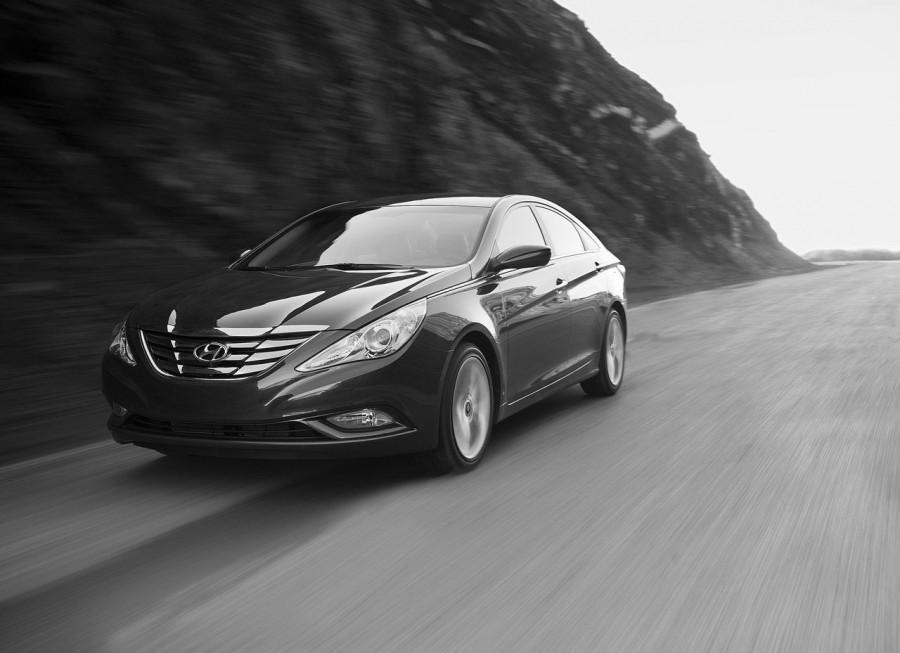car: (99, 192, 631, 481)
